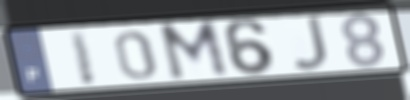0: (111, 29, 161, 80)
6: (222, 17, 278, 77)
8: (338, 11, 388, 69)
I: (66, 28, 100, 88)
J: (289, 13, 332, 73)
M: (155, 18, 233, 84)
